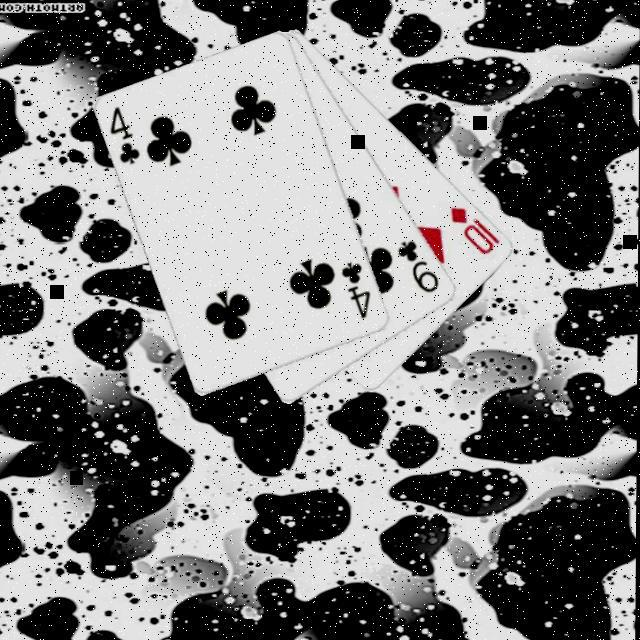10D: (449, 205, 505, 259)
4C: (109, 105, 145, 170), (340, 261, 376, 324)
9C: (396, 239, 444, 299)
